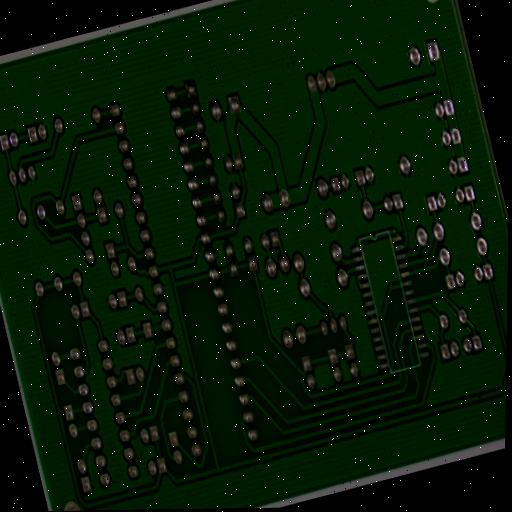mouse_bite: (475, 391, 484, 403)
